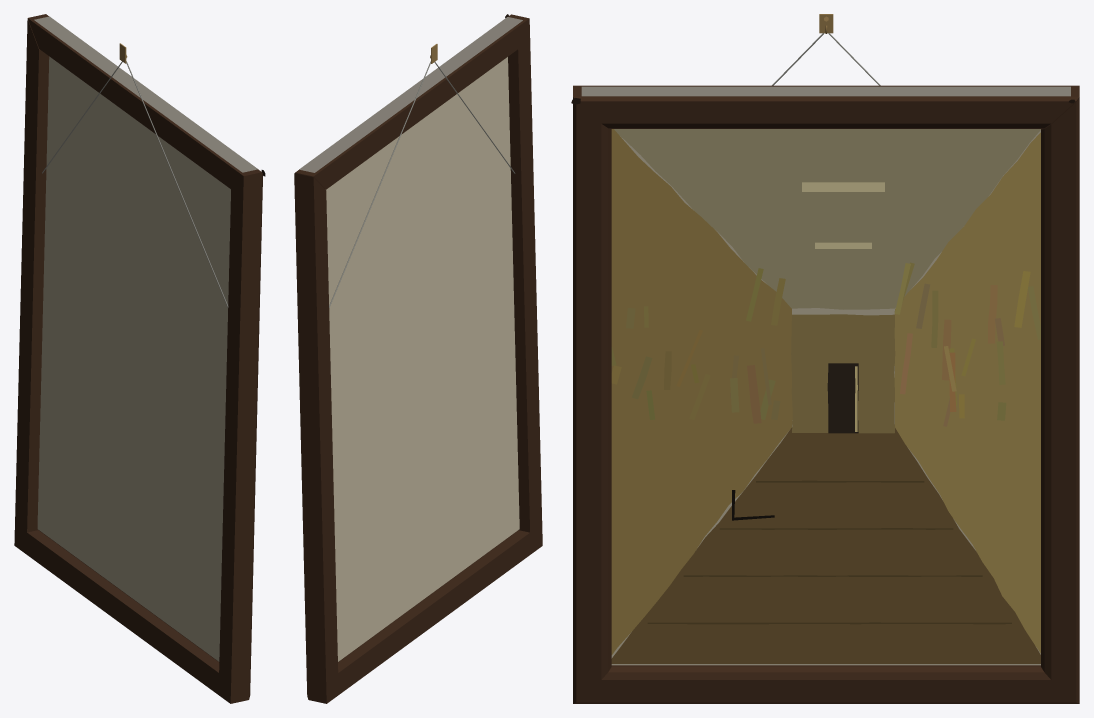
The model's file is painting_f.glb.
3 views of the same model, side by side, from view 1: azimuth 30°, elevation 25°; view 2: azimuth 150°, elevation 25°; view 3: azimuth 270°, elevation 25° (orthographic). The views are drawn at different scales.
Visible parts, largest first — view 1: bild, aufhaengung; view 2: bild, aufhaengung; view 3: bild.
Part boxes in pixels (x1,y1,x2,y2): bild: [14, 14, 265, 703]; aufhaengung: [42, 43, 228, 307]; bild: [294, 14, 542, 703]; aufhaengung: [329, 44, 515, 307]; bild: [571, 85, 1079, 703].
Bounding box in the file's own units: 0.0541 × 0.8728 × 0.5919.
